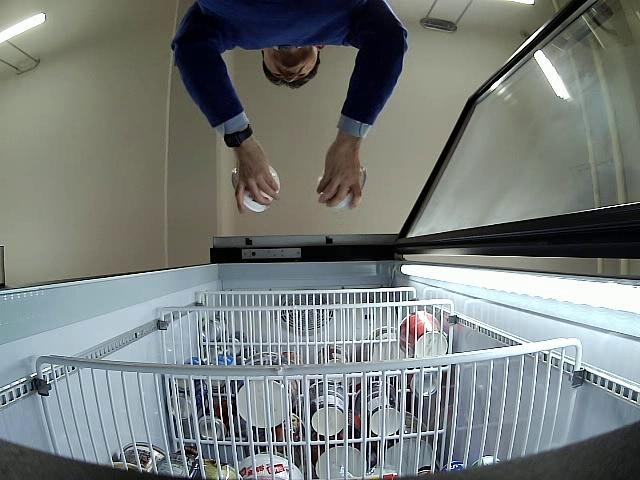00_hand: (315, 141, 361, 210), (236, 148, 280, 214)
09_yukGaeJang: (231, 166, 279, 211), (318, 166, 366, 209)
